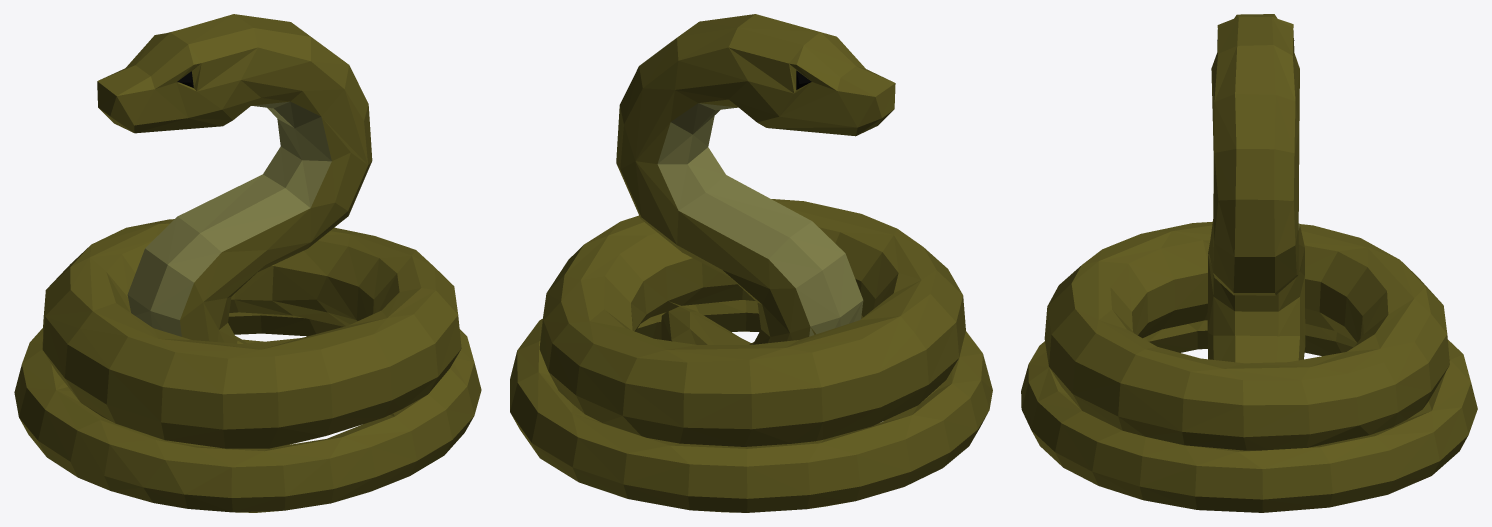
File: Serpiente.fbx
3 views of the same model, side by side, from view 1: azimuth 30°, elevation 25°; view 2: azimuth 150°, elevation 25°; view 3: azimuth 270°, elevation 25° (orthographic). The views are drawn at different scales.
Parts seen in each view (by area): view 1: fbfd3f9117f94d8bba5f2c2a7822b7e9; view 2: fbfd3f9117f94d8bba5f2c2a7822b7e9; view 3: fbfd3f9117f94d8bba5f2c2a7822b7e9.
Part boxes in pixels (box(x1,y1,x2,y2)): fbfd3f9117f94d8bba5f2c2a7822b7e9: box(14, 14, 481, 512); fbfd3f9117f94d8bba5f2c2a7822b7e9: box(510, 14, 992, 512); fbfd3f9117f94d8bba5f2c2a7822b7e9: box(1021, 14, 1477, 512).
Bounding box in the file's own units: 434 × 406 × 434.
